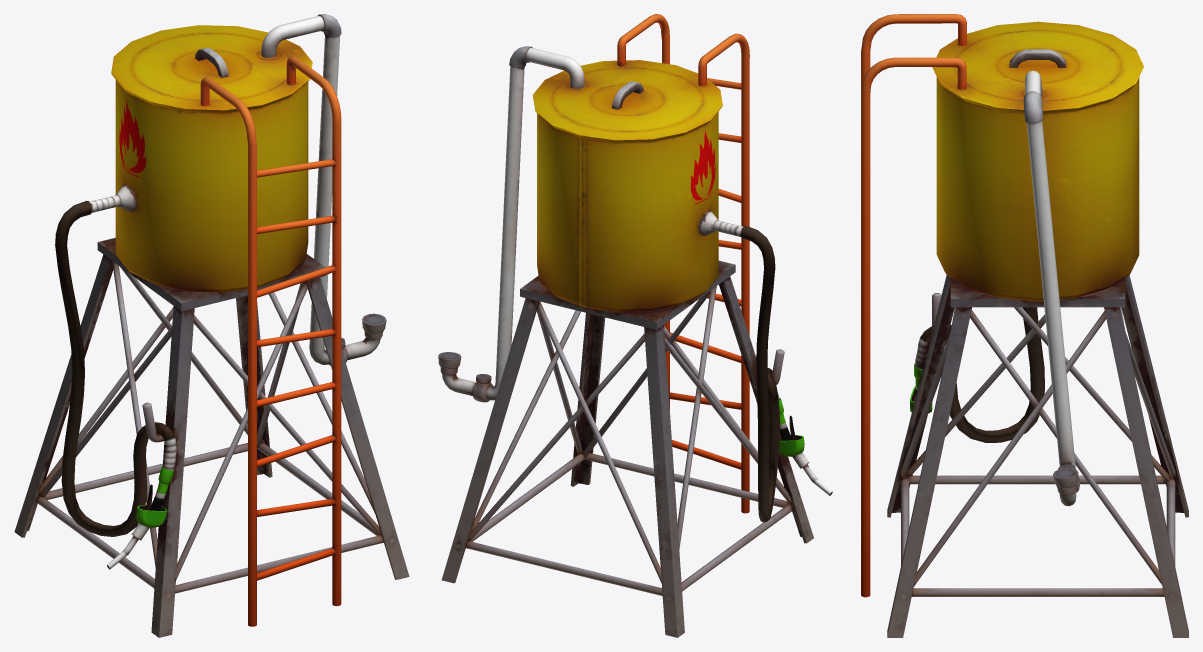
Rendered from FuelTank01.FBX.
3 views of the same model, side by side, from view 1: azimuth 30°, elevation 25°; view 2: azimuth 150°, elevation 25°; view 3: azimuth 270°, elevation 25° (orthographic). The views are drawn at different scales.
Visible parts, largest first — view 1: FuelTank01; view 2: FuelTank01; view 3: FuelTank01.
Boxes of the visible parts, x1,y1,x2,y2 form: FuelTank01: [14, 14, 409, 637]; FuelTank01: [438, 14, 832, 637]; FuelTank01: [861, 14, 1188, 637].
Size of what is drawn, in the model's own units: 2.29 by 3.27 by 1.8.
